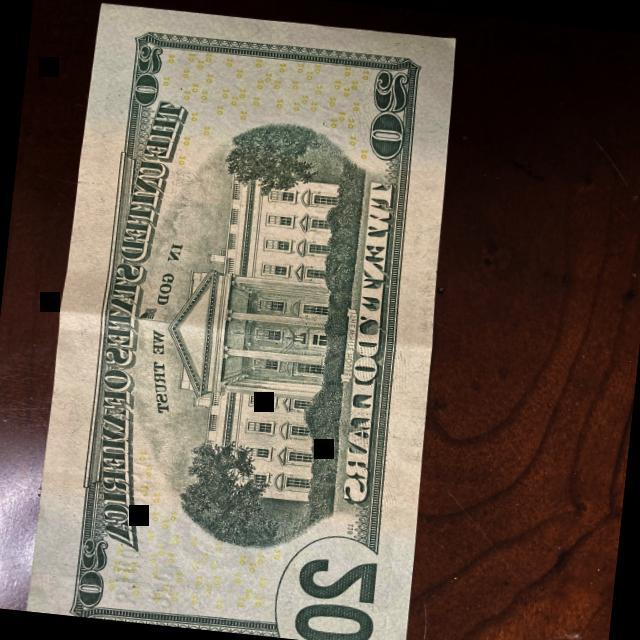twenty: (21, 0, 472, 640)
